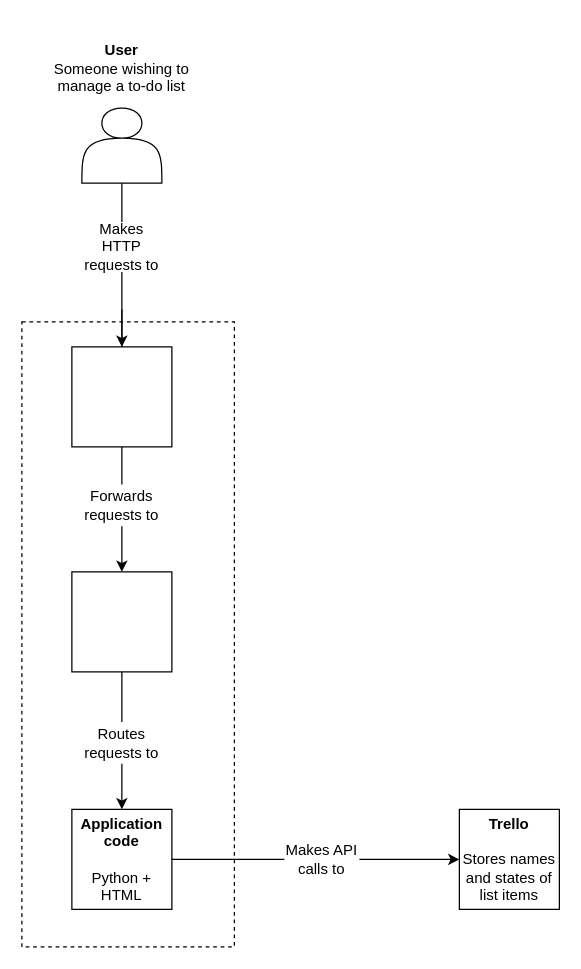
Some shapes in this 581 by 969 pixel diagram are drawn without their labels. Here are the shapes that lost their labels. From the top down, the centre of each, then its label:
point 121,396: Gunicorn WSGI HTTP Server
point 121,621: Flask WSGI web application framework
